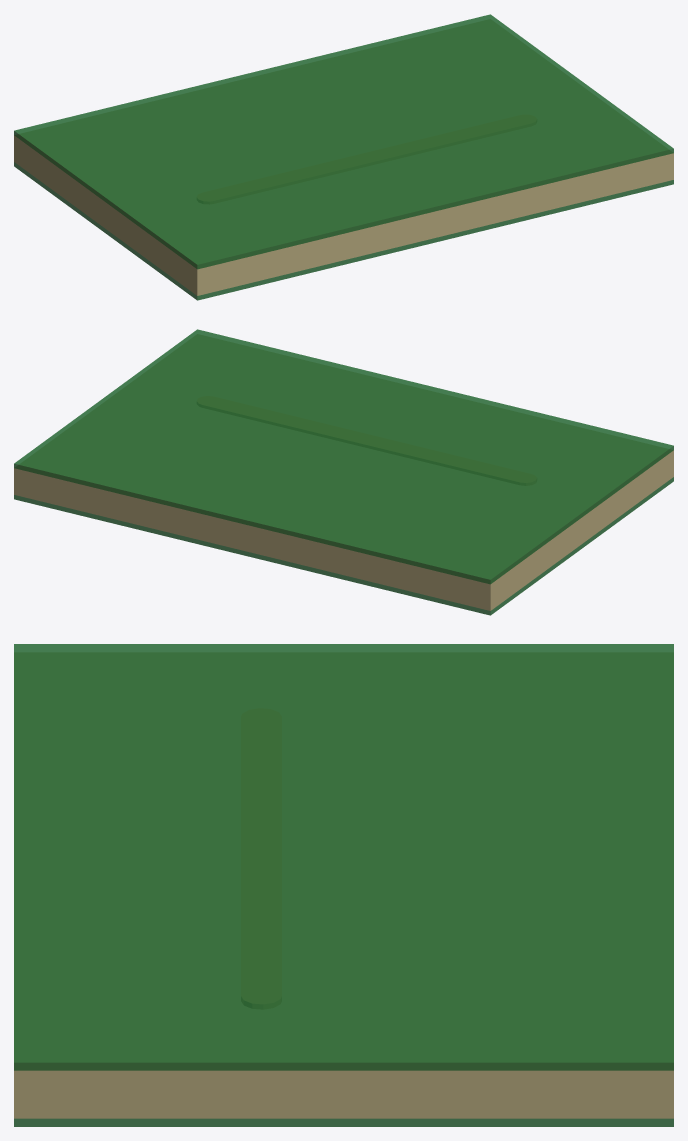
Rendered from conductor-core.glb.
3 views of the same model, one above another, from view 1: azimuth 30°, elevation 25°; view 2: azimuth 150°, elevation 25°; view 3: azimuth 270°, elevation 25° (orthographic). The views are drawn at different scales.
Parts seen in each view (by area): view 1: layer/@soldermask-top, layer/Dielectric%201, layer/@soldermask-bottom, layer/Top%20Layer; view 2: layer/@soldermask-top, layer/Dielectric%201, layer/@soldermask-bottom, layer/Top%20Layer; view 3: layer/@soldermask-top, layer/Dielectric%201, layer/@soldermask-bottom, layer/Top%20Layer.
Part boxes in pixels (box(x1,y1,x2,y2)): layer/@soldermask-top: box(14, 14, 673, 269); layer/Dielectric%201: box(14, 19, 673, 295); layer/@soldermask-bottom: box(14, 162, 673, 300); layer/Top%20Layer: box(205, 131, 478, 201); layer/@soldermask-top: box(14, 329, 673, 584); layer/Dielectric%201: box(14, 337, 673, 610); layer/@soldermask-bottom: box(14, 477, 673, 615); layer/Top%20Layer: box(240, 409, 530, 476); layer/@soldermask-top: box(14, 644, 673, 1070); layer/Dielectric%201: box(14, 653, 673, 1118); layer/@soldermask-bottom: box(14, 1118, 673, 1126); layer/Top%20Layer: box(241, 712, 281, 1006).
Bounding box in the file's own units: 0.006 × 0.00043 × 0.004.
